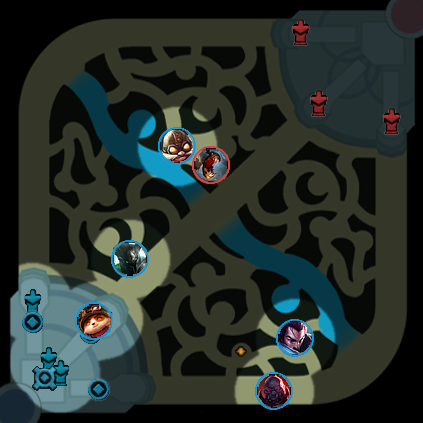Corki: (158, 127, 196, 165)
Fiddlesticks: (192, 146, 230, 184)
Mordekaiser: (111, 240, 149, 278)
Sion: (255, 372, 293, 410)
Teemo: (75, 302, 113, 340)
Yasuo: (276, 319, 314, 357)
